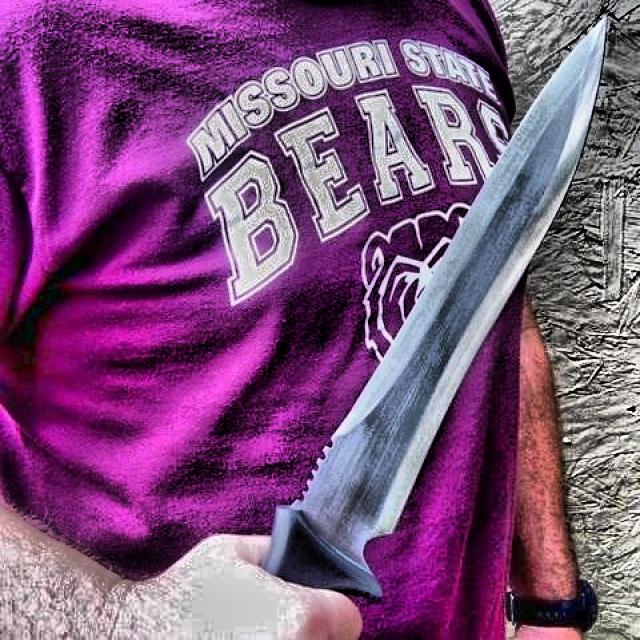knife: (256, 16, 610, 603)
